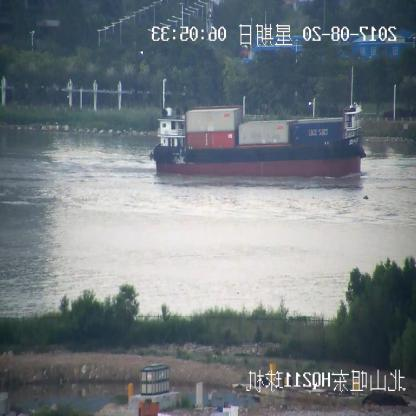Container Ship: (152, 70, 368, 178)
